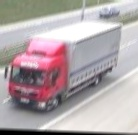truck: (0, 18, 122, 113)
